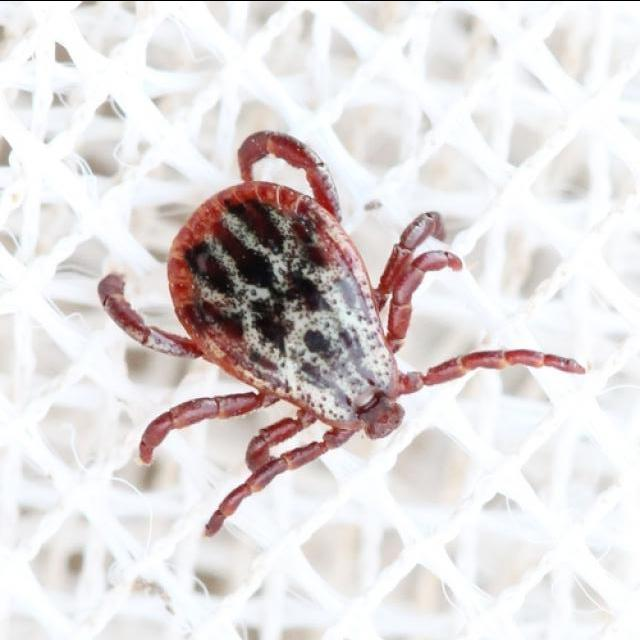Dermacentor Reticulatus-M: (98, 131, 585, 537)
